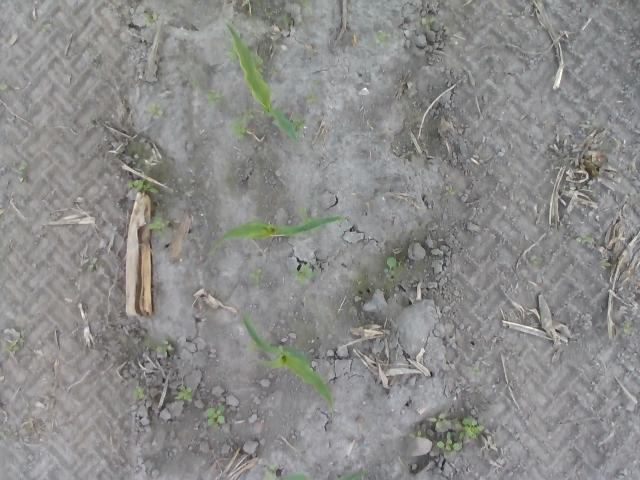Maize: (240, 312, 334, 422), (225, 25, 302, 145), (210, 204, 346, 252)
Weeds: (410, 412, 488, 457), (227, 110, 253, 144), (126, 180, 159, 198), (6, 330, 26, 353), (292, 264, 312, 286), (204, 407, 224, 428), (176, 387, 196, 405), (204, 90, 220, 110), (150, 218, 170, 234), (374, 29, 390, 47), (156, 341, 174, 356), (147, 105, 163, 120), (386, 258, 398, 278), (140, 12, 158, 25), (18, 162, 28, 184), (88, 256, 100, 274), (134, 387, 147, 401), (262, 467, 276, 479), (249, 270, 263, 282), (578, 234, 594, 244), (622, 323, 633, 337), (602, 259, 614, 271), (444, 186, 456, 198), (468, 366, 482, 376), (308, 90, 317, 104), (193, 77, 201, 91), (422, 17, 436, 25), (40, 25, 50, 36), (529, 254, 540, 264), (0, 84, 10, 92)
